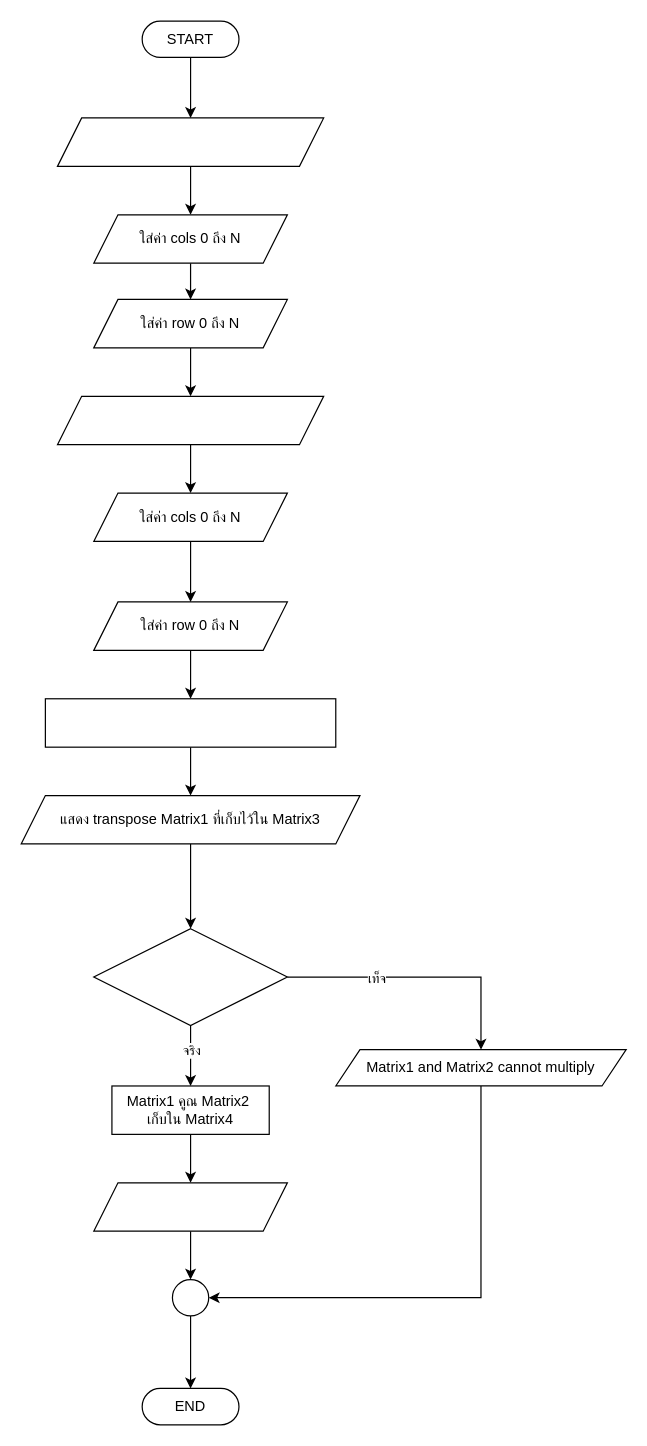
The diagram is 647 pixels wide and 1446 high, and some of its shapes have lost their labels. Here are the shapes that lost their labels. From the top down, the box of each, then its label:
(56, 117, 324, 166): ใส่ค่า Matrix1 = rows และ cols
(56, 395, 324, 445): ใส่ค่า Matrix2 = rows และ cols
(44, 698, 336, 747): คำนวณ transpose matrix1 เก็บไว้ใน matrix3
(93, 927, 287, 1025): cols1 เท่ากับ rows2
(93, 1182, 287, 1231): แสดงผลลัพ Matrix1 x Matrix2 ที่เก็บใน Matrix4
